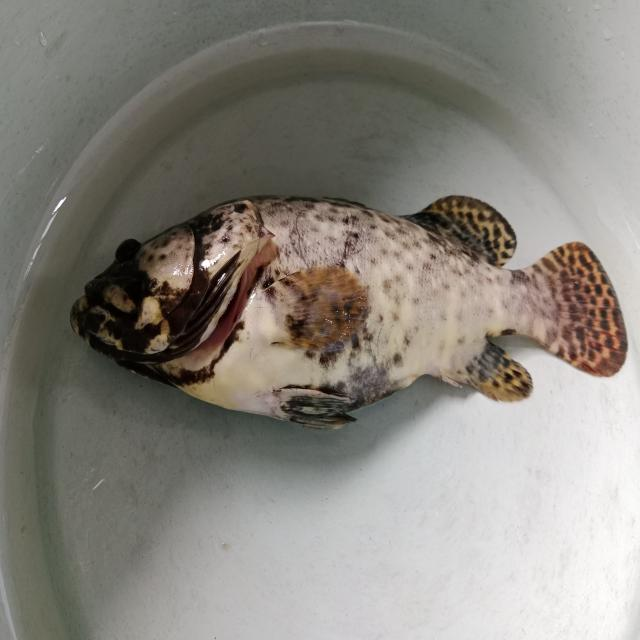ikan: (69, 191, 628, 432)
